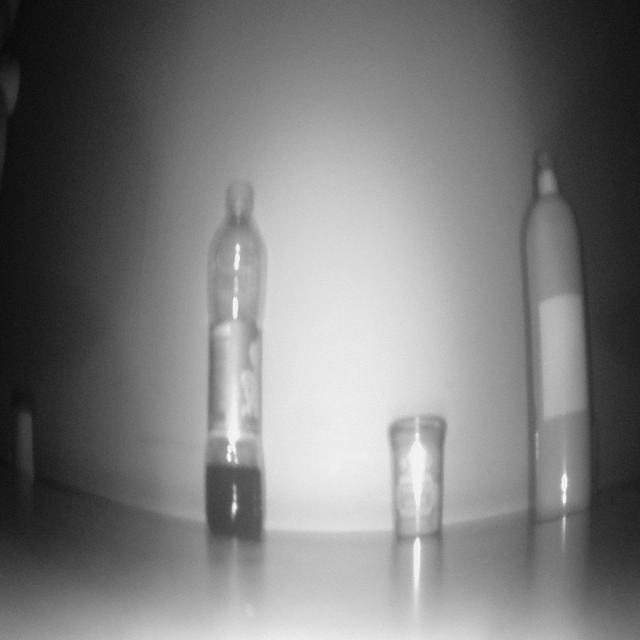targets: (526, 151, 596, 508), (207, 186, 264, 539), (392, 417, 445, 535), (12, 408, 35, 467)
